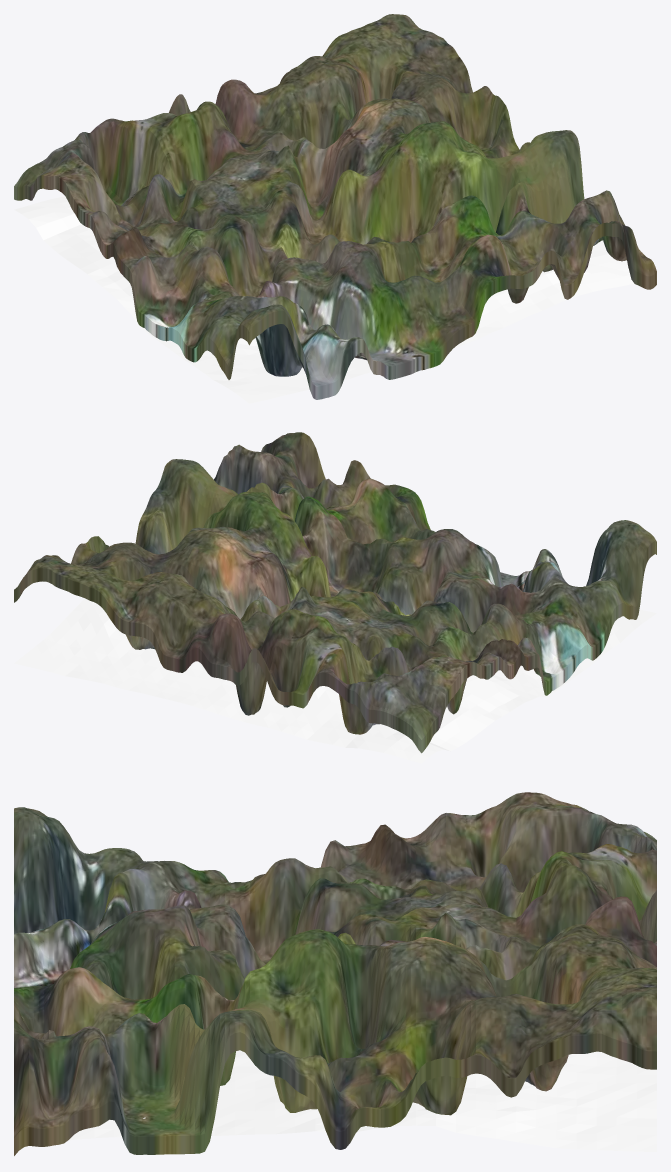
3 views of the same model, one above another, from view 1: azimuth 30°, elevation 25°; view 2: azimuth 150°, elevation 25°; view 3: azimuth 270°, elevation 25° (orthographic). The views are drawn at different scales.
Parts seen in each view (by area): view 1: surface, ground; view 2: surface, ground; view 3: surface, ground.
Part boxes in pixels (x1,y1,x2,y2): surface: [14, 14, 656, 399]; ground: [14, 196, 634, 403]; surface: [14, 432, 656, 753]; ground: [14, 598, 656, 763]; surface: [14, 792, 656, 1155]; ground: [69, 1050, 656, 1151].
Size of the model in its own units: 128 by 41.96 by 128.
Materials: 2 (1 with a texture image).
